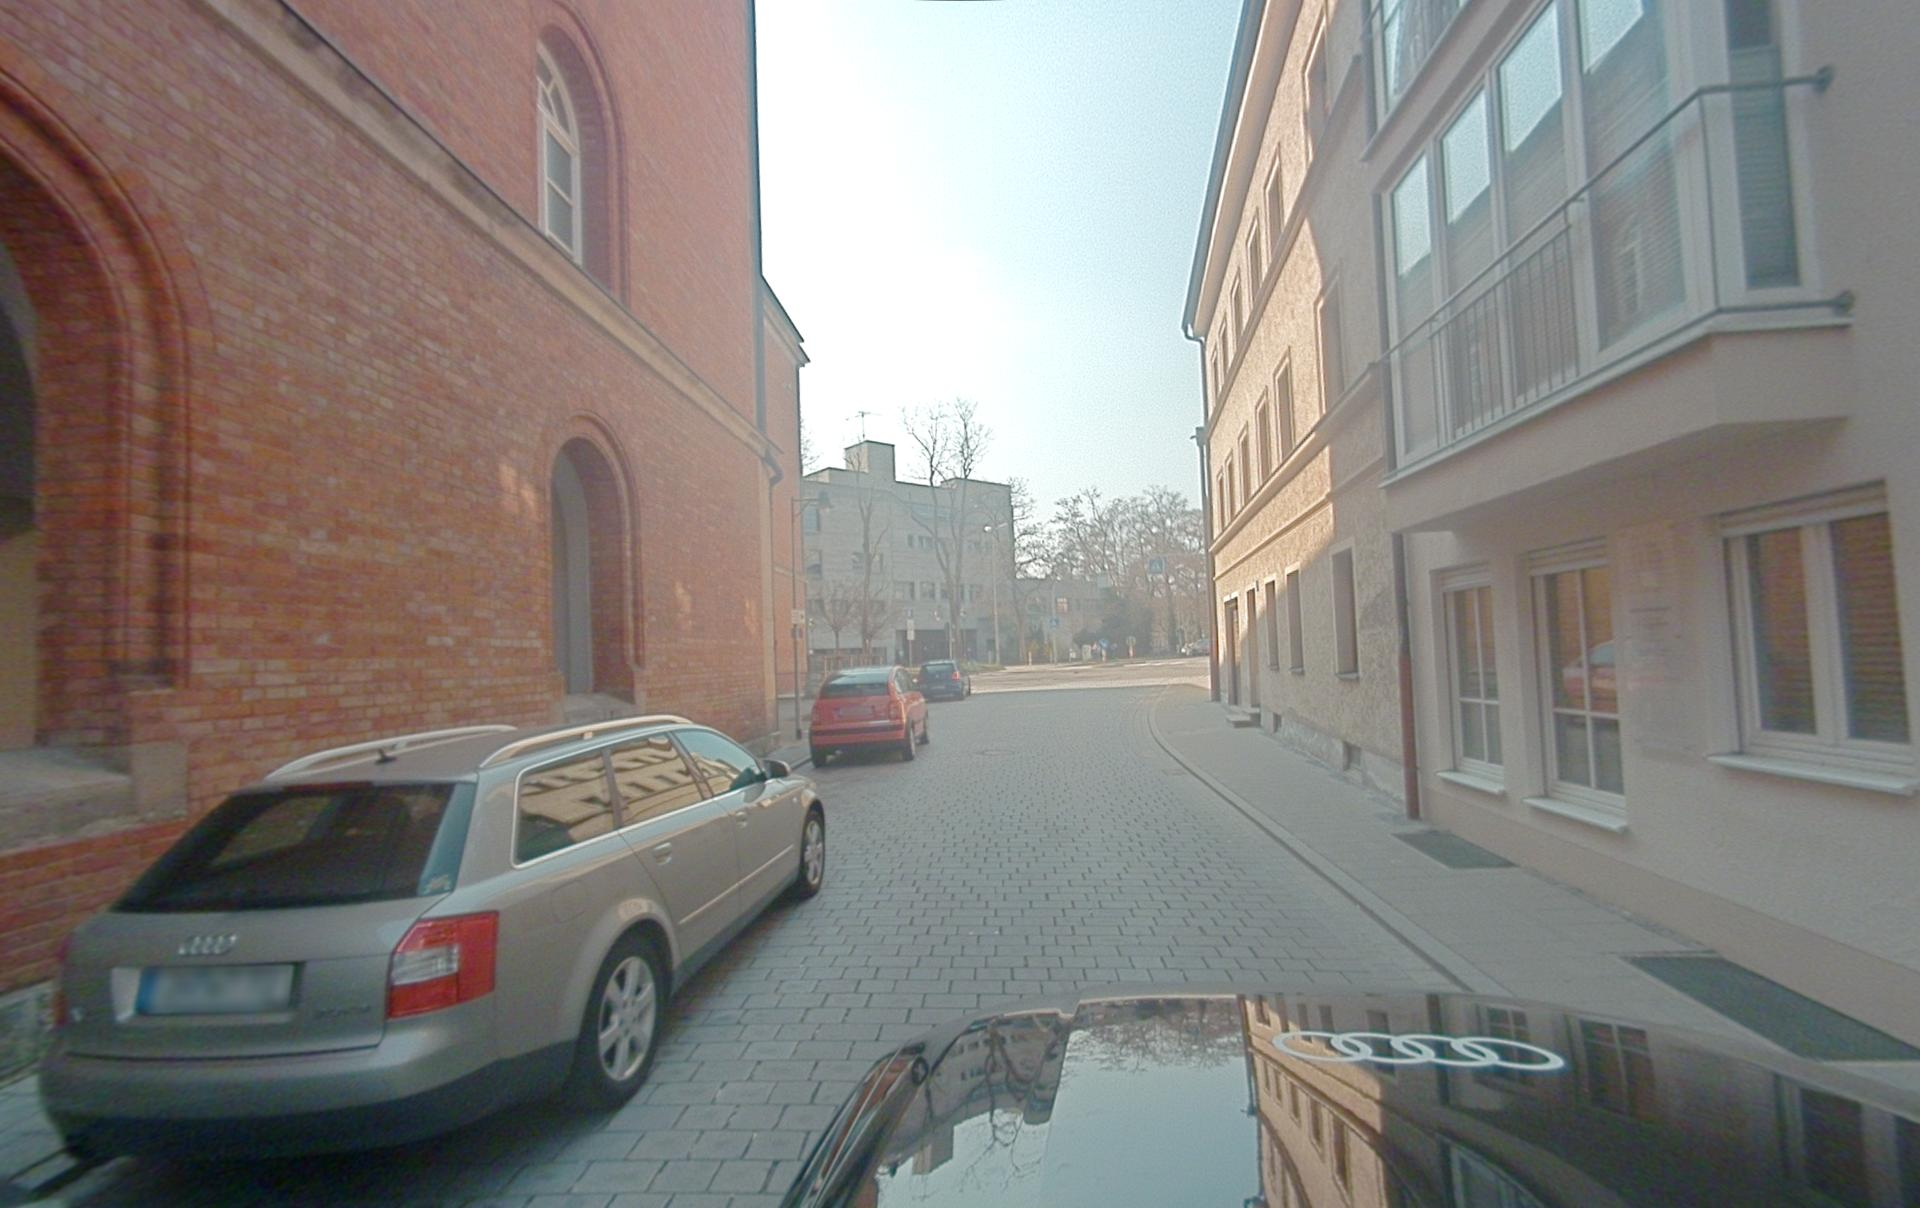car: (39, 713, 828, 1163), (778, 990, 1919, 1208), (808, 665, 929, 767), (915, 660, 971, 701)
